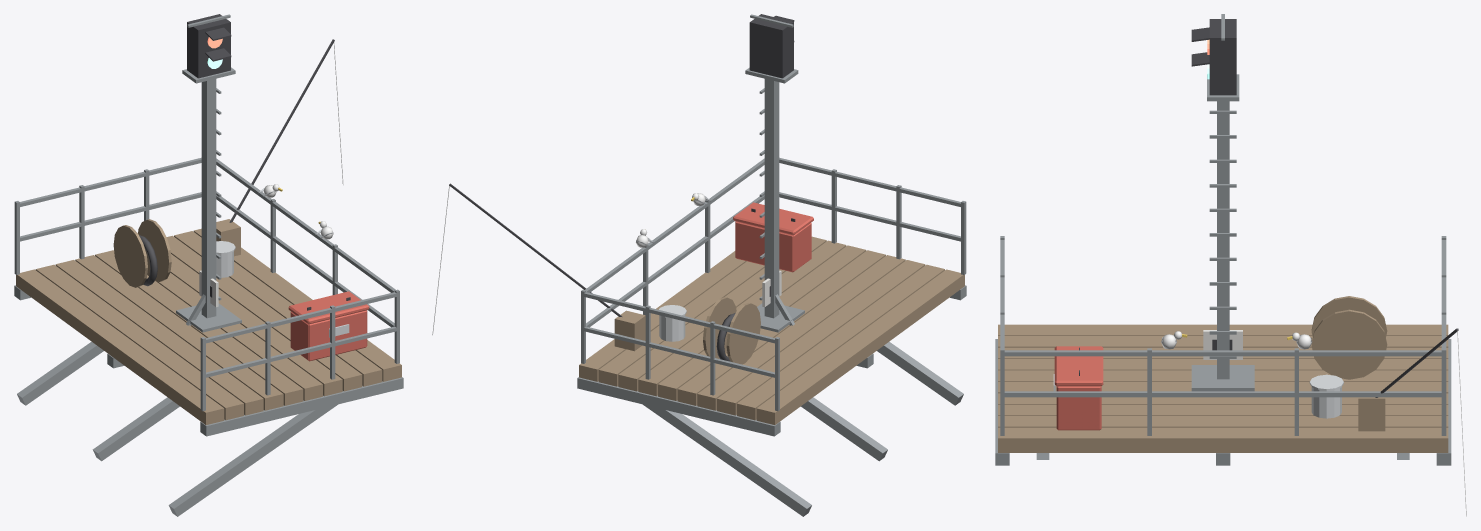
File: trestle_kit.glb
3 renders of one model, left to right at view 1: azimuth 30°, elevation 25°; view 2: azimuth 150°, elevation 25°; view 3: azimuth 270°, elevation 25°, orthographic. The views are drawn at different scales.
Visible parts, largest first — view 1: tr_refuge_mesh, tr_signal_mesh; view 2: tr_refuge_mesh, tr_signal_mesh; view 3: tr_refuge_mesh, tr_signal_mesh, tr_milepost_mesh.
Boxes of the visible parts, box(x1,y1,x2,y2) form: tr_refuge_mesh: box(14, 39, 403, 516); tr_signal_mesh: box(176, 14, 241, 332); tr_refuge_mesh: box(432, 157, 966, 516); tr_signal_mesh: box(745, 14, 804, 332); tr_refuge_mesh: box(995, 236, 1466, 516); tr_signal_mesh: box(1191, 14, 1254, 391); tr_milepost_mesh: box(1203, 330, 1242, 359).
Size of the model in its own units: 5.33 by 5.99 by 5.23.
